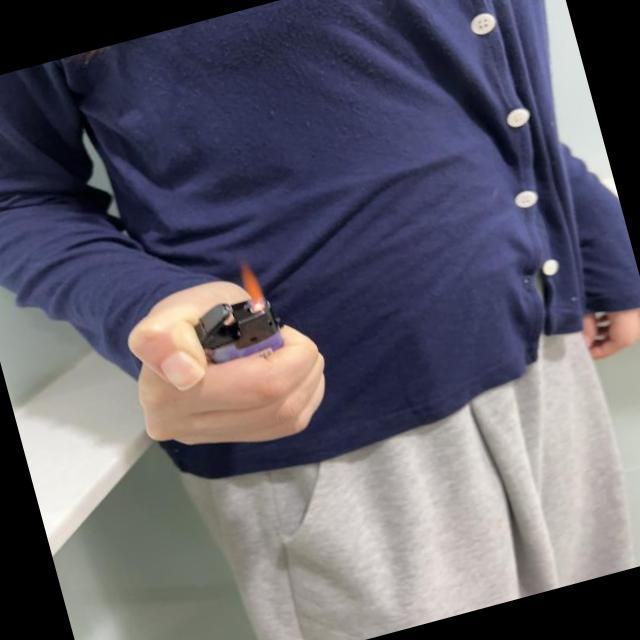Fire: (236, 258, 270, 315)
